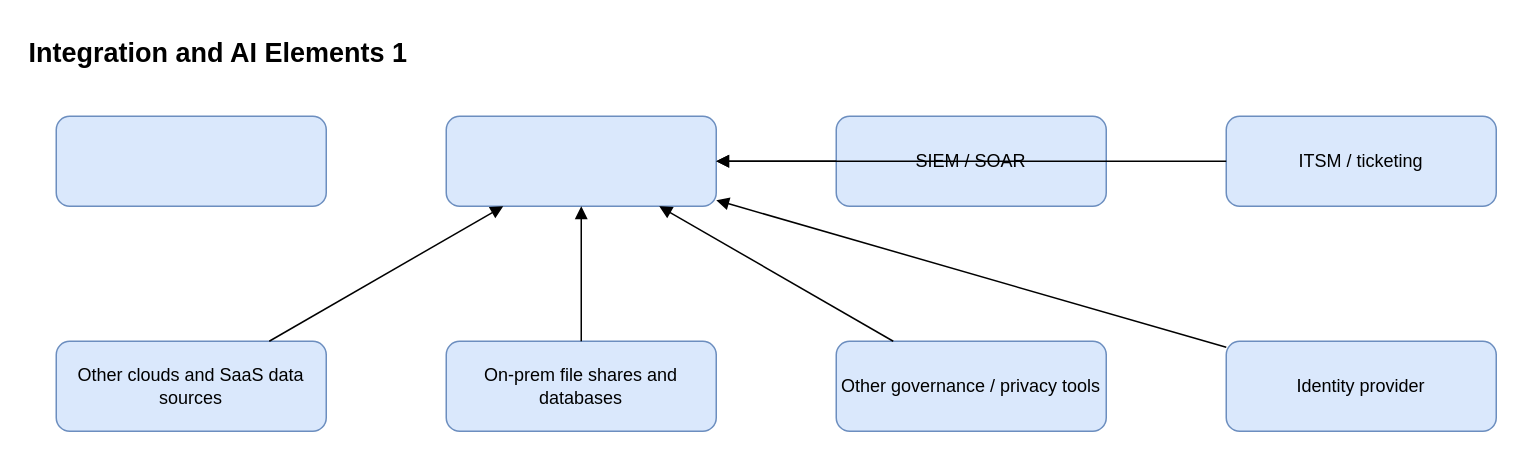
Image size: 1523x458. Some labels were removed from this diagram. The shapes that lost their labels are listed below. From the top down, each one's centre as x and y in pixels, then its label:
the point at 190,160: Microsoft's Digital-Work Platform boundary
the point at 580,160: Microsoft's Digital-Work Platform
